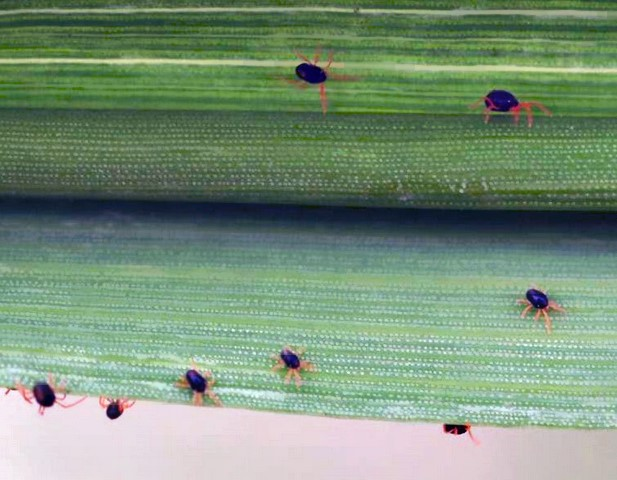Wheat Red Spider: (464, 80, 560, 136), (512, 279, 570, 338)
